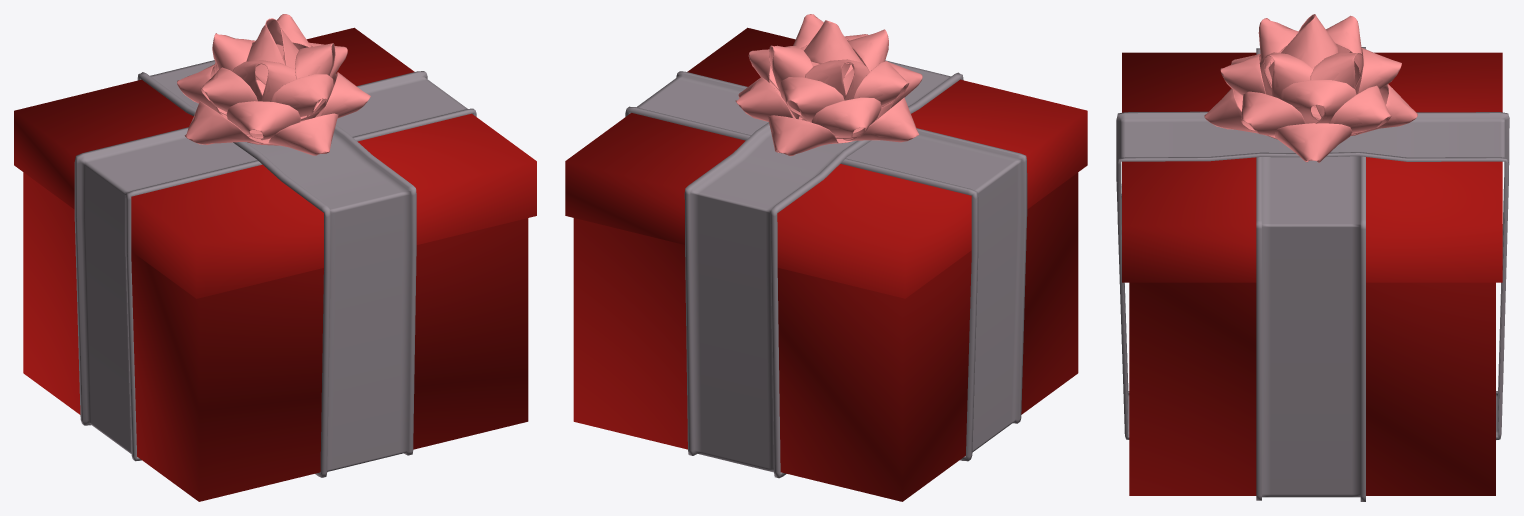
The model's file is gifts.glb.
3 renders of one model, left to right at view 1: azimuth 30°, elevation 25°; view 2: azimuth 150°, elevation 25°; view 3: azimuth 270°, elevation 25°, orthographic. The views are drawn at different scales.
Parts seen in each view (by area): view 1: box, ribbon 02, ribbon 01, wrapping bow; view 2: box, ribbon 02, ribbon 01, wrapping bow; view 3: box, ribbon 01, wrapping bow, ribbon 02.
Boxes of the visible parts, box(x1,y1,x2,y2) form: box: box(14, 27, 536, 501); ribbon 02: box(137, 60, 416, 477); ribbon 01: box(74, 71, 476, 461); wrapping bow: box(177, 14, 370, 155); box: box(565, 27, 1087, 501); ribbon 02: box(684, 60, 963, 478); ribbon 01: box(625, 71, 1027, 461); wrapping bow: box(735, 14, 922, 156); box: box(1122, 52, 1502, 495); ribbon 01: box(1256, 47, 1365, 501); wrapping bow: box(1204, 14, 1417, 162); ribbon 02: box(1116, 111, 1509, 439).
Size of the model in its own units: 0.2849 by 0.2981 by 0.2654.
